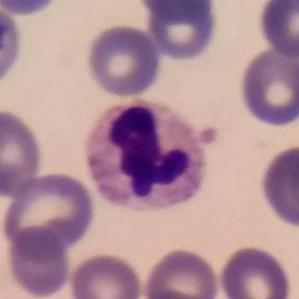Neutrophil: (79, 94, 214, 219)
Platelets: (197, 120, 224, 149)
RBC: (0, 170, 98, 258), (83, 22, 163, 100), (235, 43, 299, 129), (2, 227, 73, 298), (142, 1, 221, 63), (141, 245, 222, 299), (216, 243, 294, 299), (0, 105, 46, 198), (66, 250, 146, 299), (258, 145, 299, 234), (255, 0, 299, 60), (0, 7, 26, 92), (135, 0, 216, 20), (0, 0, 66, 18)
